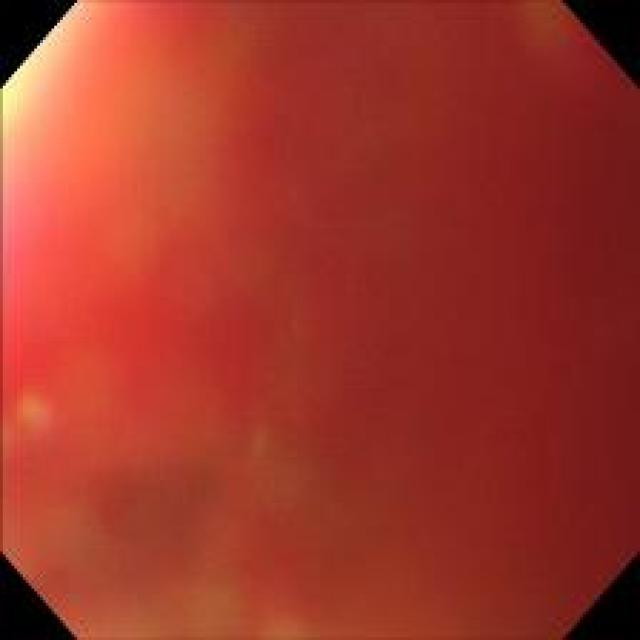color misalignment: (11, 6, 620, 636)
